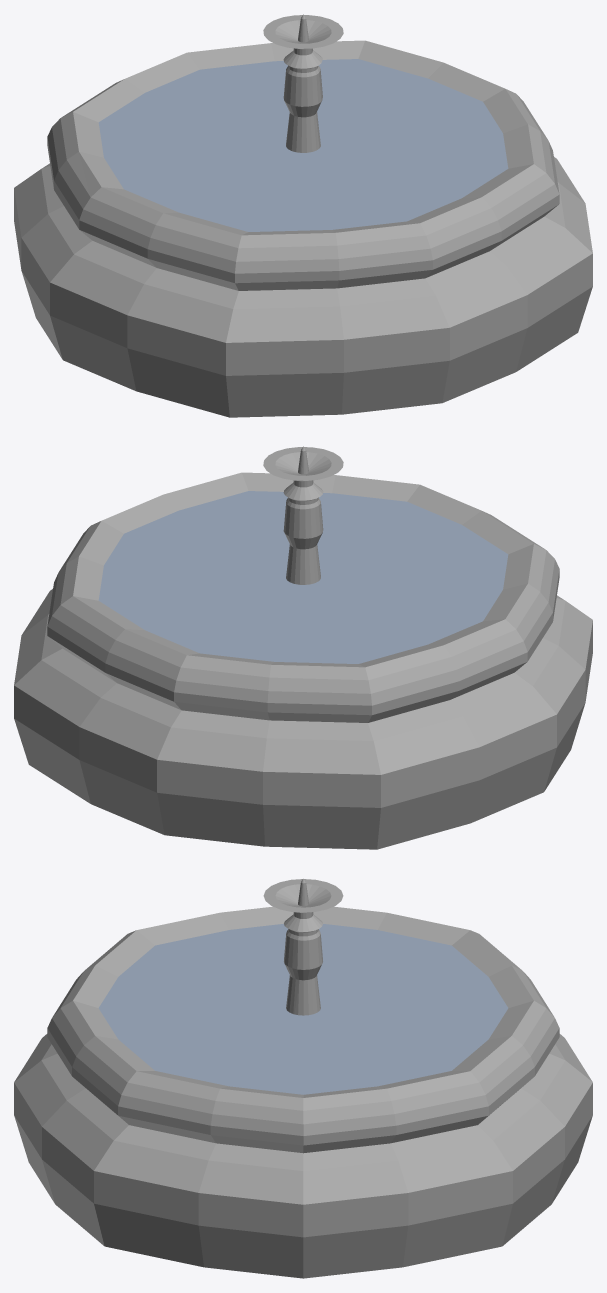
File: fontaine.fbx
The picture shows the model from 3 angles, top to bottom: view 1: azimuth 30°, elevation 25°; view 2: azimuth 150°, elevation 25°; view 3: azimuth 270°, elevation 25°; orthographic projection.
Visible parts, largest first — view 1: pCylinder2; view 2: pCylinder2; view 3: pCylinder2.
Part boxes in pixels (x1,y1,x2,y2): pCylinder2: (14,14,592,417); pCylinder2: (14,446,592,849); pCylinder2: (14,878,592,1278).
Size of the model in its own units: 7.97 by 4.33 by 7.97.
